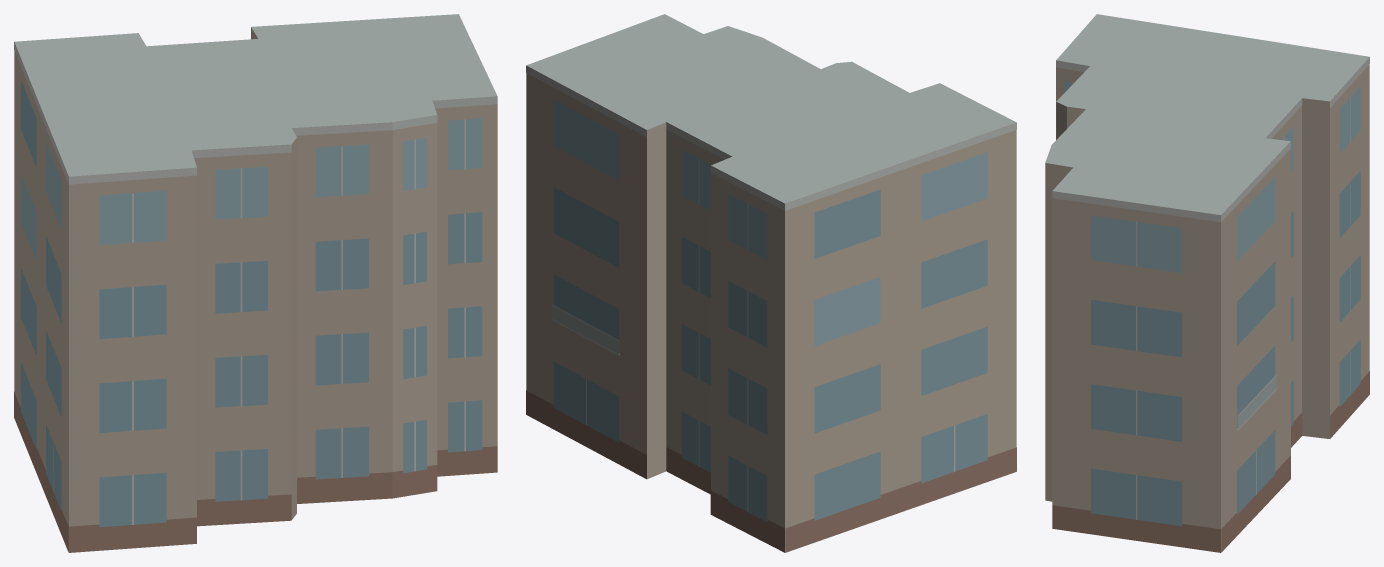
File: survey-upis-32870007.glb
The picture shows the model from 3 angles, left to right: view 1: azimuth 30°, elevation 25°; view 2: azimuth 150°, elevation 25°; view 3: azimuth 270°, elevation 25°; orthographic projection. The views are drawn at different scales.
Visible parts, largest first — view 1: survey-upis-32870007.tmp; view 2: survey-upis-32870007.tmp; view 3: survey-upis-32870007.tmp.
Boxes of the visible parts, x1=… form: survey-upis-32870007.tmp: x1=14, y1=14, x2=497, y2=552; survey-upis-32870007.tmp: x1=526, y1=14, x2=1016, y2=552; survey-upis-32870007.tmp: x1=1045, y1=14, x2=1369, y2=552.
Size of the model in its own units: 14.83 by 11.6 by 10.12.
